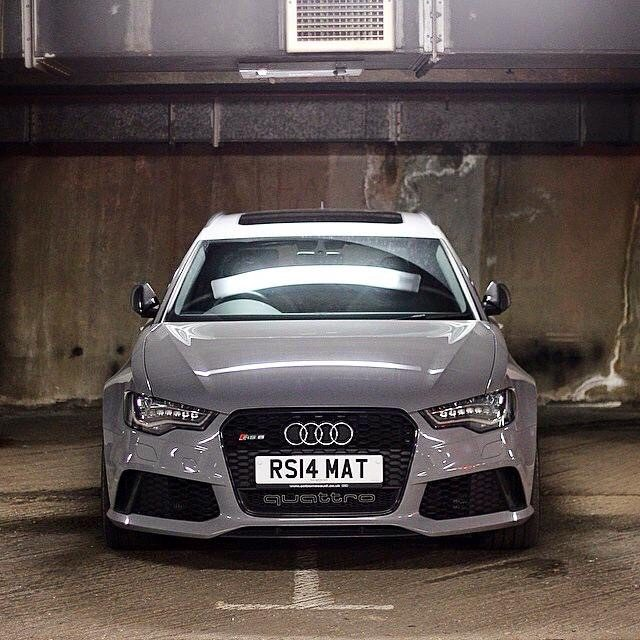audi: (276, 415, 357, 452)
